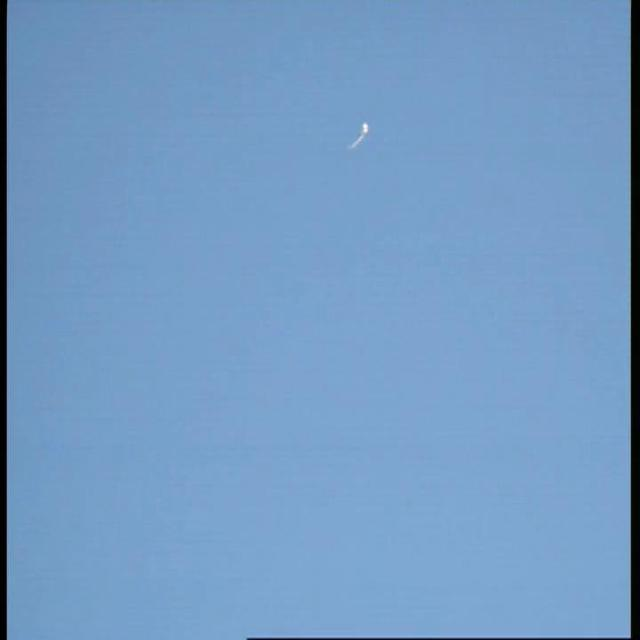drone: (345, 115, 375, 154)
